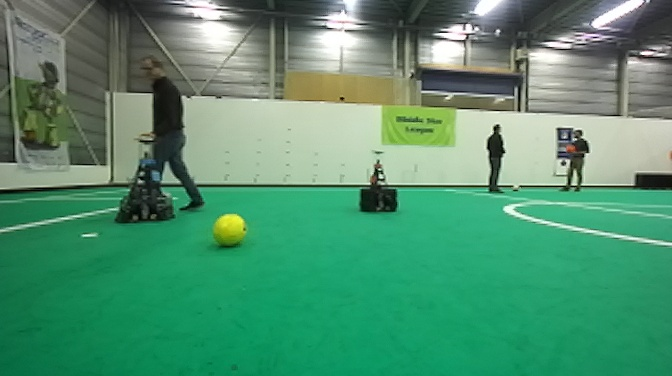ball: (211, 212, 247, 250), (510, 182, 521, 192), (566, 144, 576, 155)
human: (140, 55, 205, 211), (482, 123, 507, 193), (564, 128, 590, 191)
robot: (115, 135, 175, 223), (358, 150, 399, 214)
